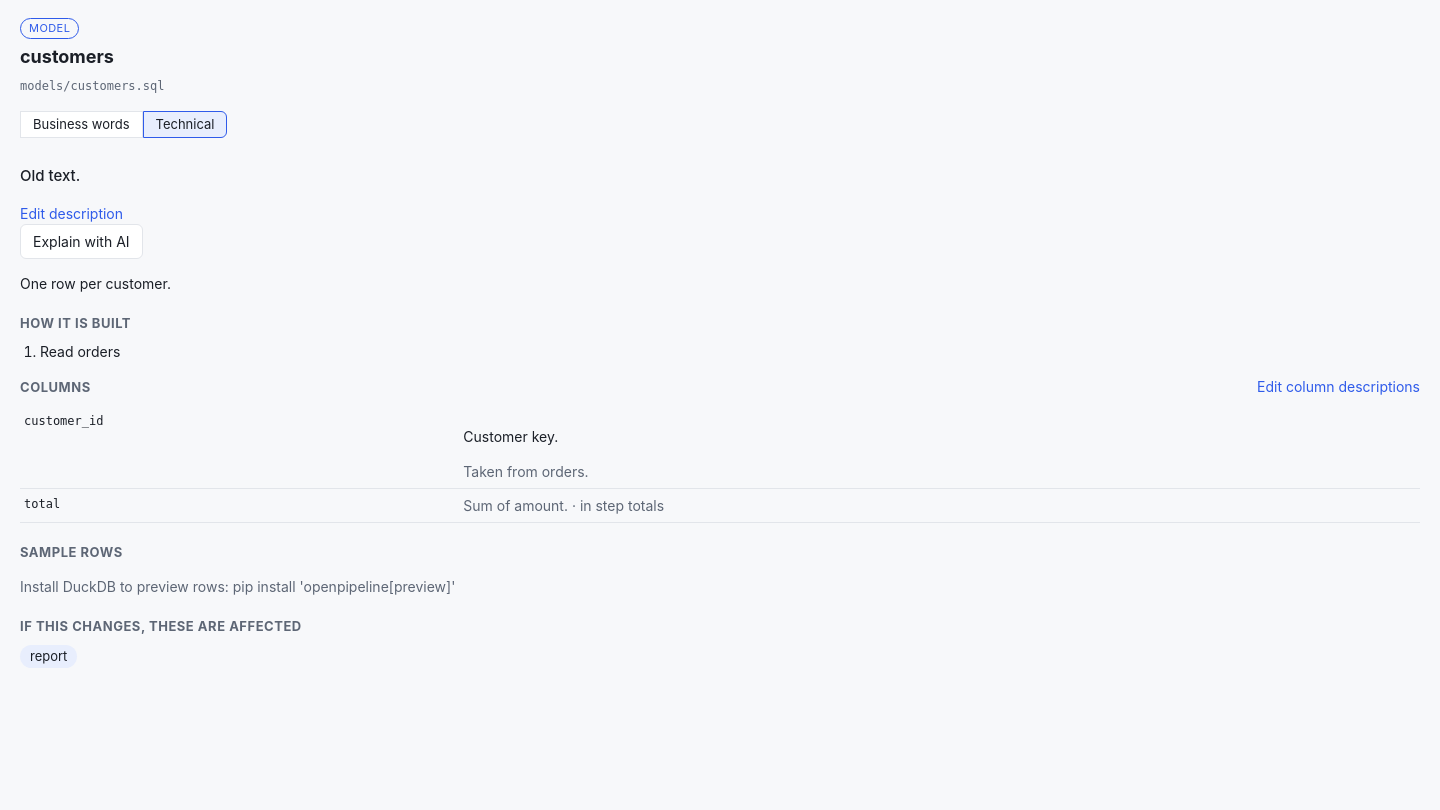
StoryPanel editing › edits and saves the description, then refreshes queries
The width and height of the screenshot is (1440, 810).
Click the button "Edit description": x=72, y=213 [20,202,123,224]
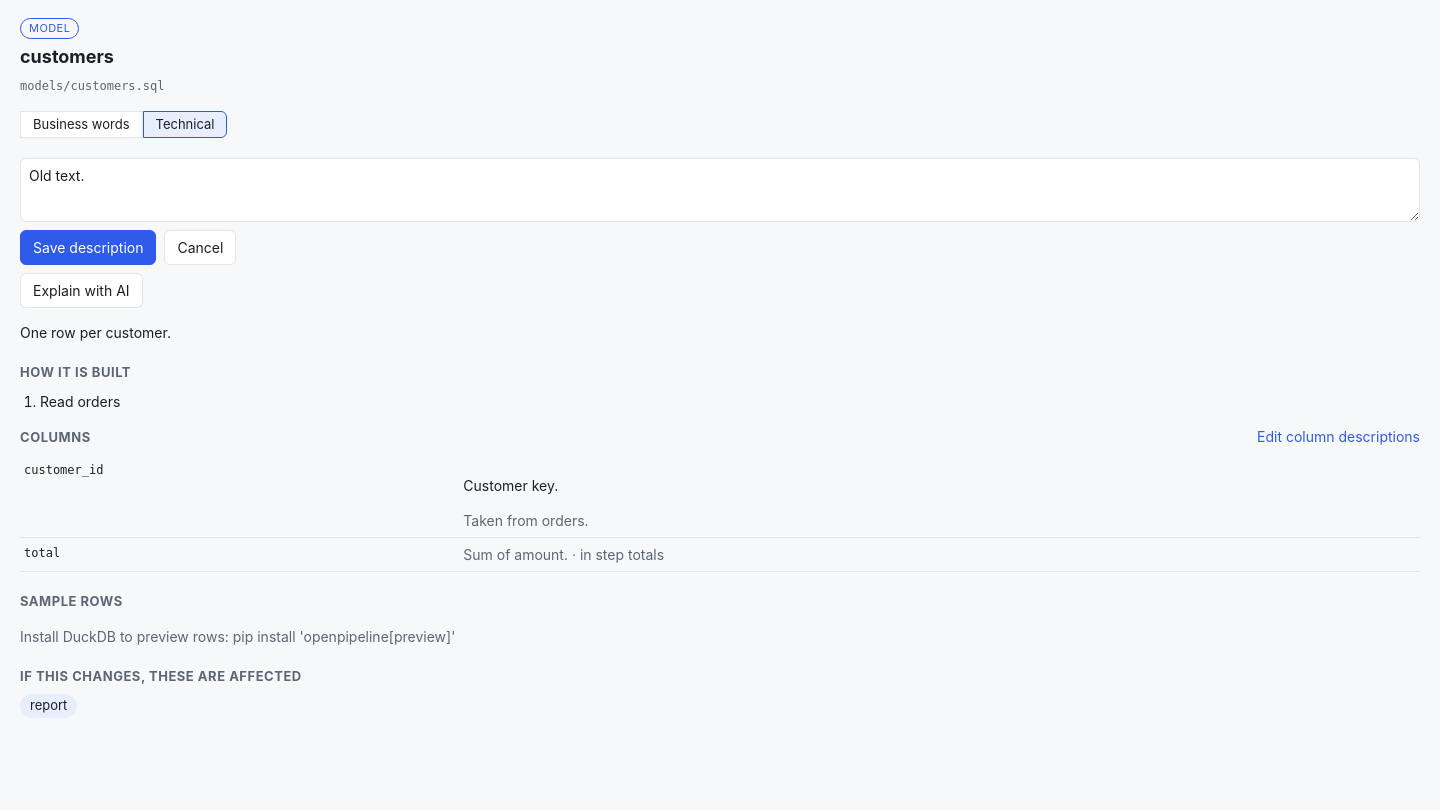
Now the text box named "Description" holds "Old text."
Replace the text in the text box named "Description" with "New text.": x=720, y=190 [20,158,1420,222]
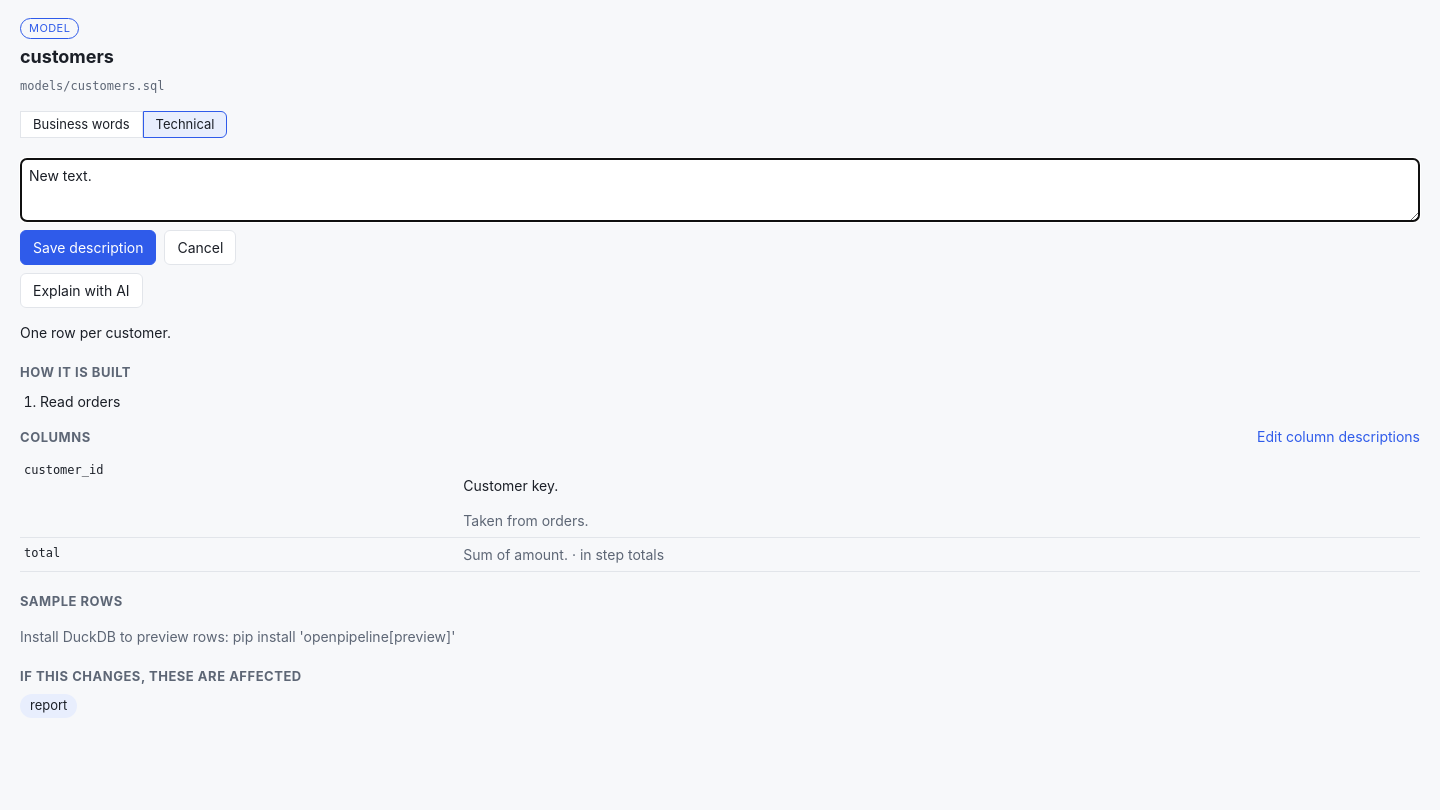
Click the button "Save description": x=88, y=248 [20,230,156,265]
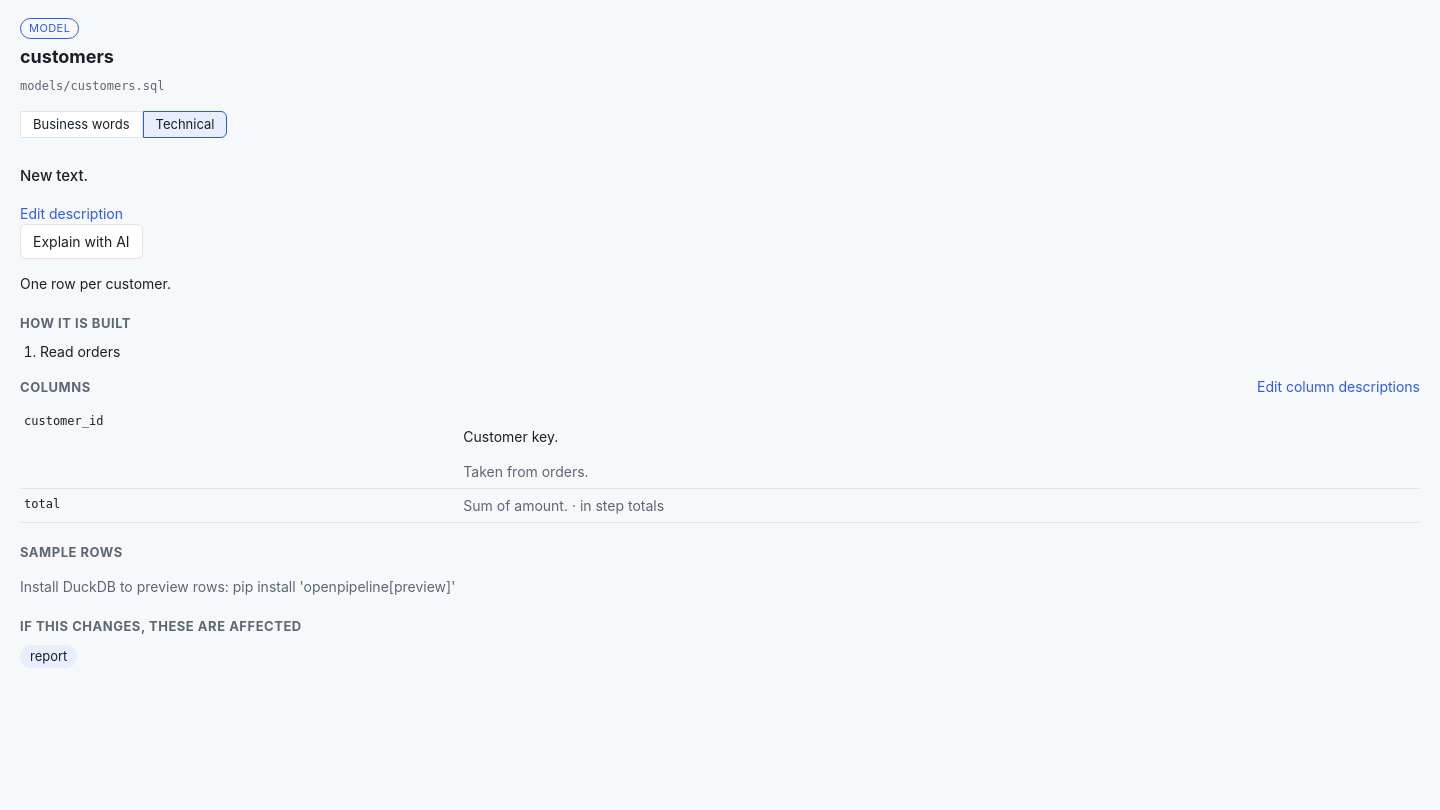
Now the text "New text." is shown, box [20,166,88,185]
